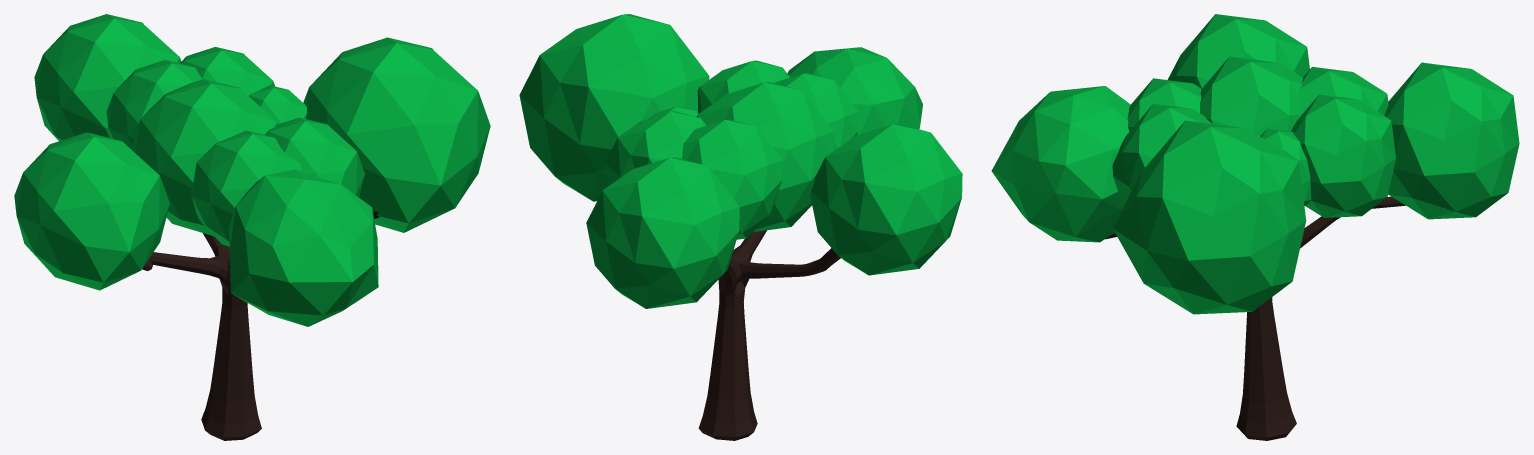
File: sadeddtree.fbx
3 views of the same model, side by side, from view 1: azimuth 30°, elevation 25°; view 2: azimuth 150°, elevation 25°; view 3: azimuth 270°, elevation 25° (orthographic). The views are drawn at different scales.
Parts seen in each view (by area): view 1: Plane; view 2: Plane; view 3: Plane.
Part boxes in pixels (left/top/right/bottom): Plane: left=14, top=14, right=490, bottom=440; Plane: left=519, top=14, right=962, bottom=440; Plane: left=991, top=14, right=1519, bottom=440.
Bounding box in the file's own units: 1280 × 1049 × 1351.
